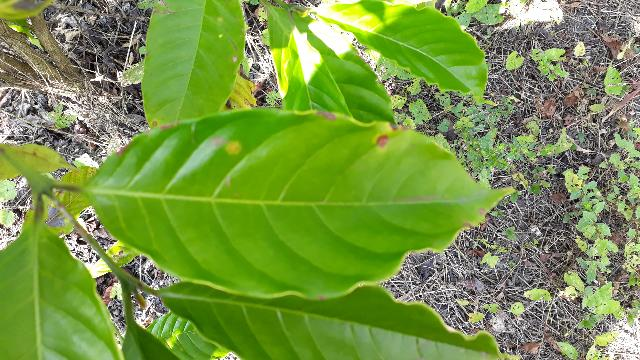rust_level_1: (61, 105, 521, 302)
